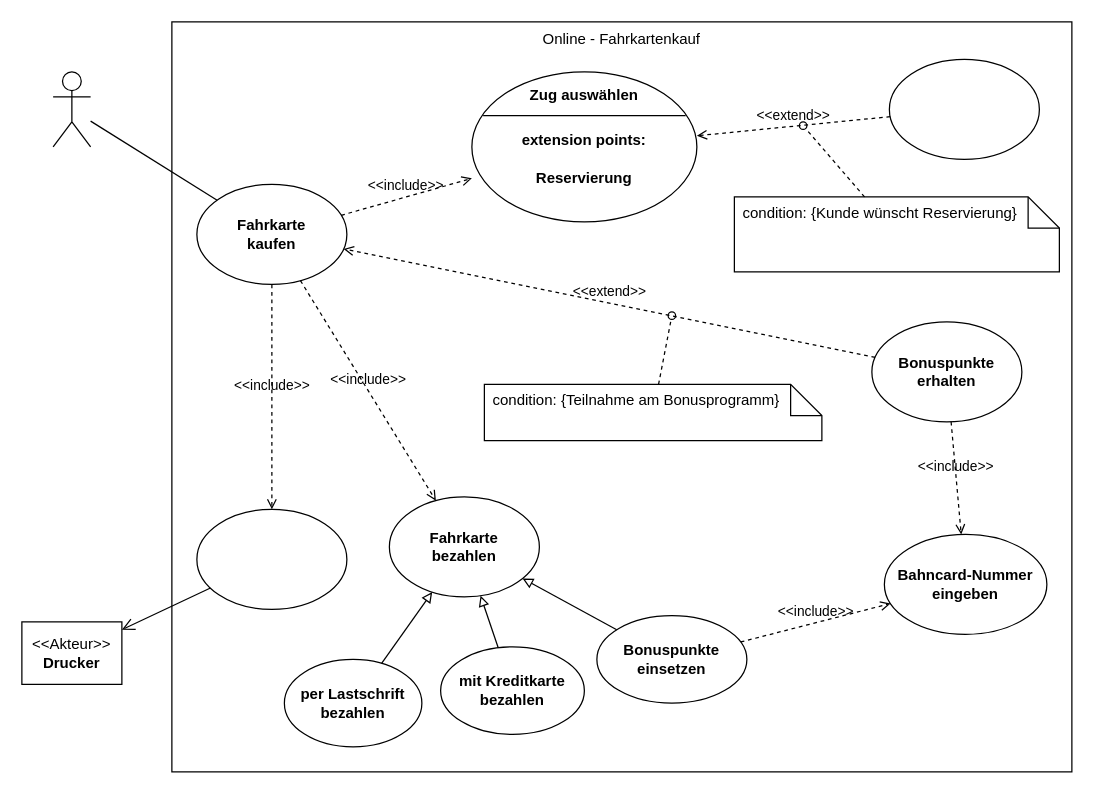
Some shapes in this 1094 by 794 pixel diagram are drawn without their labels. The shapes that lost their labels are listed below. From the top down, each one's centre as x and y in pixels, then its label:
the point at 71,109: Kunde
the point at 963,108: Platz reservieren
the point at 896,234: extension point: Reservierung
the point at 271,558: Fahrkarte drucken
